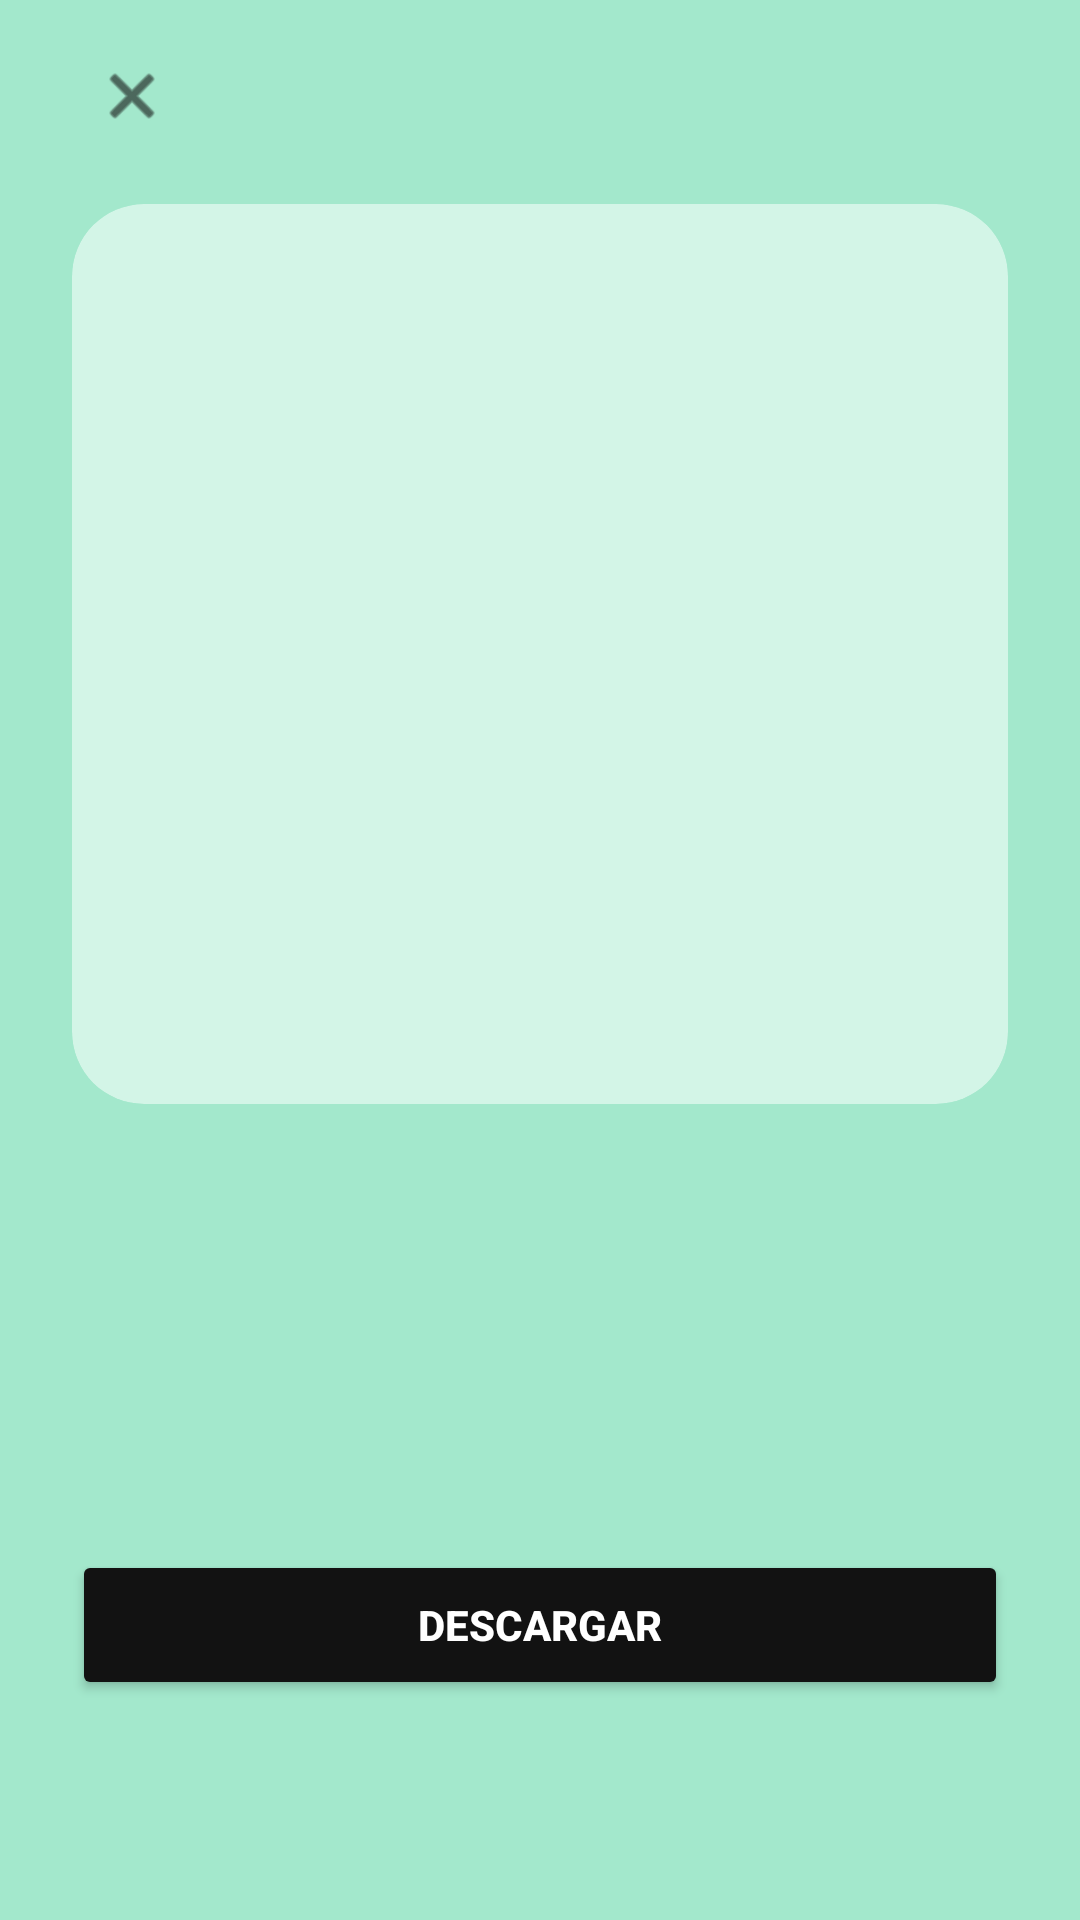

Point at icon controls on the screen. Image size 1080w x 1920h, points as (x,y).
Volver: (132,96)
